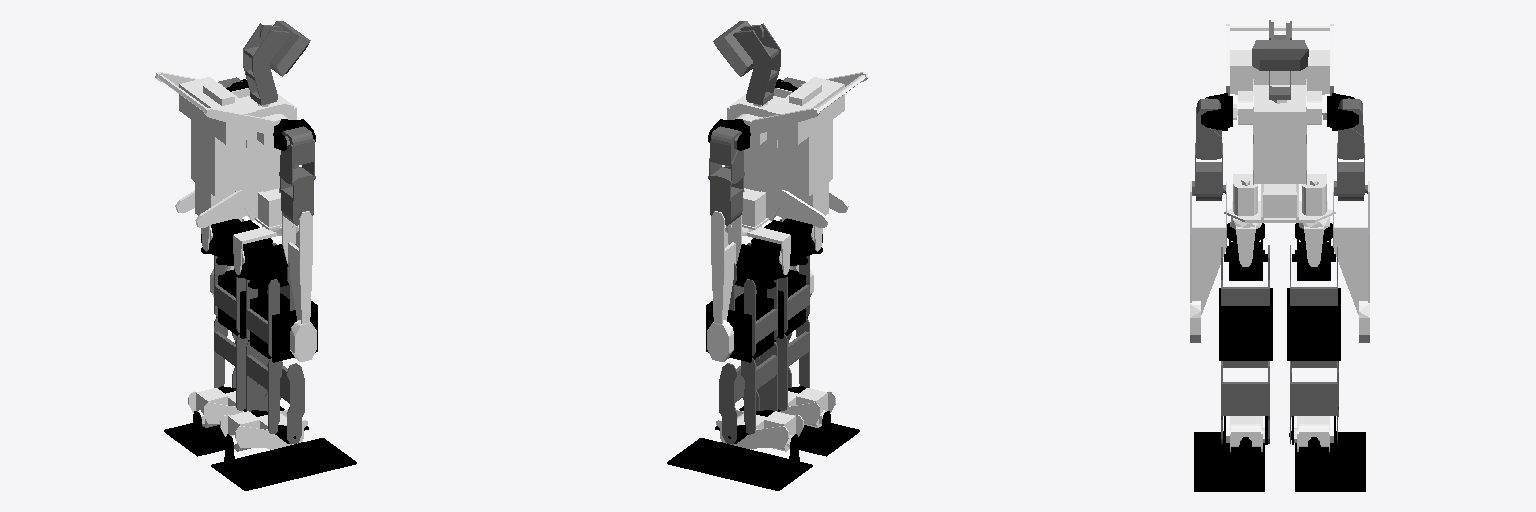
--- Facts derived from the render (not from the file) ---
3 views of the same robot in one strip: view 1: azimuth 30°, elevation 25°; view 2: azimuth 150°, elevation 25°; view 3: azimuth 270°, elevation 25° (orthographic).
Model gankenkun with 35 links and 34 joints (27 revolute, 7 fixed), rooted at base_link, posed every joint at zero.
Links seen in each view (by area): view 1: body_link, right_ankle_roll_link, head_yaw_link, right_lower_arm_link, right_upper_arm_link, right_knee_pitch_link, right_waist_roll_link, right_ankle_pitch_link, right_shin_pitch_mimic_link, left_shin_pitch_mimic_link, right_shin_pitch_link, left_ankle_roll_link (+7 smaller); view 2: body_link, left_ankle_roll_link, head_yaw_link, left_lower_arm_link, left_upper_arm_link, left_knee_pitch_link, left_shin_pitch_mimic_link, left_waist_roll_link, left_ankle_pitch_link, right_shin_pitch_mimic_link, left_shin_pitch_link, right_ankle_roll_link (+7 smaller); view 3: body_link, left_ankle_roll_link, right_ankle_roll_link, left_knee_pitch_link, right_knee_pitch_link, left_lower_arm_link, right_lower_arm_link, right_upper_arm_link, left_upper_arm_link, head_yaw_link, right_shin_pitch_link, left_shin_pitch_link (+10 smaller).
Link boxes in pixels (box(x1,y1,x2,y2)): body_link: box(155, 72, 296, 229); right_ankle_roll_link: box(211, 434, 356, 490); head_yaw_link: box(243, 21, 310, 105); right_lower_arm_link: box(282, 211, 316, 361); right_upper_arm_link: box(279, 126, 315, 225); right_knee_pitch_link: box(248, 293, 317, 362); right_waist_roll_link: box(233, 238, 288, 289); right_ankle_pitch_link: box(220, 410, 307, 451); right_shin_pitch_mimic_link: box(246, 341, 281, 433); left_shin_pitch_mimic_link: box(214, 318, 247, 410); right_shin_pitch_link: box(265, 357, 304, 444); left_ankle_roll_link: box(164, 406, 308, 456); body_link: box(727, 72, 868, 229); left_ankle_roll_link: box(667, 434, 812, 490); head_yaw_link: box(713, 21, 780, 105); left_lower_arm_link: box(707, 211, 741, 361); left_upper_arm_link: box(708, 126, 744, 225); left_knee_pitch_link: box(706, 293, 775, 362); left_shin_pitch_mimic_link: box(741, 342, 777, 434); left_waist_roll_link: box(735, 238, 790, 289); left_ankle_pitch_link: box(716, 410, 803, 451); right_shin_pitch_mimic_link: box(776, 318, 809, 410); left_shin_pitch_link: box(719, 356, 759, 444); right_ankle_roll_link: box(715, 406, 859, 456); body_link: box(1224, 24, 1335, 222); left_ankle_roll_link: box(1295, 432, 1365, 491); right_ankle_roll_link: box(1194, 432, 1264, 491); left_knee_pitch_link: box(1287, 288, 1340, 360); right_knee_pitch_link: box(1219, 288, 1272, 360); left_lower_arm_link: box(1333, 181, 1369, 342); right_lower_arm_link: box(1190, 181, 1226, 342); right_upper_arm_link: box(1192, 98, 1225, 200); left_upper_arm_link: box(1334, 98, 1367, 200); head_yaw_link: box(1252, 20, 1308, 99); right_shin_pitch_link: box(1221, 361, 1269, 443); left_shin_pitch_link: box(1290, 361, 1337, 443).
Size in the robot's own frame: 0.2145 by 0.2314 by 0.6326 metres.
Meshes: 18 distinct files referenced, 28 mesh visuals loaded (18 Collada DAE).

URDF robot description (gankenkun):
<?xml version="1.0" ?>
<robot name="gankenkun" xmlns:xacro="http://www.ros.org/wiki/xacro">
  <material name="black">
    <color rgba="0.0 0.0 0.0 1.0"/>
  </material>
  <material name="blue">
    <color rgba="0.2 0.2 1.0 1.0"/>
  </material>
  <material name="green">
    <color rgba="0.0 0.8 0.0 1.0"/>
  </material>
  <material name="grey">
    <color rgba="0.5 0.5 0.5 1.0"/>
  </material>
  <material name="orange">
    <color rgba="1.0 0.423529411765 0.0392156862745 1.0"/>
  </material>
  <material name="brown">
    <color rgba="1.0 0.811764705882 0.764705882353 1.0"/>
  </material>
  <material name="red">
    <color rgba="1.0 0.0 0.0 1.0"/>
  </material>
  <material name="white">
    <color rgba="1.0 1.0 1.0 1.0"/>
  </material>
  <!-- import empty link -->
  <link name="base_link">
  </link>
  <!-- uncomment this part to fixed the body in space (ignore gravity) -->
  <!--
    <link name="world"/>
    <joint name="world2base" type="fixed">
        <origin xyz="0 0 0" rpy="0 0 0" />
        <parent link="world"/>
        <child link="base_link"/>
    </joint>
    -->
  <!-- base joints -->
  <joint name="base_joint" type="fixed">
    <parent link="base_link"/>
    <child link="body_link"/>
    <origin rpy="0 0 0" xyz="0 0 0.4285"/>
  </joint>
  <!-- base body -->
  <link name="body_link">
    <inertial>
      <mass value="2.289633"/>
      <origin xyz="-0.029448 0 0.031411"/>
      <inertia ixx="0.009982335" ixy="0.0" ixz="0.0" iyy="0.007902445" iyz="0.0" izz="0.00631869"/>
    </inertial>
    <visual>
      <origin rpy="-1.57079632679 0 1.57079632679" xyz="0 0 0"/>
      <geometry>
        <mesh filename="meshes/body.dae"/>
      </geometry>
      <material name="white"/>
    </visual>
    <collision>
      <origin rpy="-1.57079632679 0 1.57079632679" xyz="0 0 0"/>
      <geometry>
        <box size="0.24 0.1 0.1" />
      </geometry>
    </collision>
  </link>
  <!-- head joints -->
  <joint name="head_yaw_joint" type="revolute">
    <parent link="body_link"/>
    <child link="head_yaw_link"/>
    <origin rpy="0 0 0" xyz="0 0 0.09475"/>
    <limit effort="4.6" lower="-2.35619449019" upper="2.35619449019" velocity="5.65"/>
    <dynamics damping="0.984" friction="0.088832"/>
    <axis xyz="0 0 1"/>
  </joint>
  <!-- head link -->
  <link name="head_yaw_link">
    <inertial>
      <mass value="0.10351"/>
      <origin xyz="0.017325 0 0.065059"/>
      <inertia ixx="0.000126538" ixy="0.0" ixz="0.0" iyy="0.000131085" iyz="0.0" izz="0.000071725 "/>
    </inertial>
    <visual>
      <origin rpy="-1.57079632679 1.57079632679 0" xyz="0 0 0"/>
      <geometry>
        <mesh filename="meshes/head.dae"/>
      </geometry>
      <material name="grey"/>
    </visual>
  </link>
  <!-- arm joints -->
  <joint name="left_shoulder_pitch_joint" type="revolute">
    <parent link="body_link"/>
    <child link="left_shoulder_link"/>
    <origin rpy="-1.57079632679 0 0" xyz="0.0 0.06 0.072"/>
    <limit effort="4.6" lower="-2.35619449019" upper="2.35619449019" velocity="5.65"/>
    <dynamics damping="0.984" friction="0.088832"/>
    <axis xyz="0 0 1"/>
  </joint>
  <joint name="left_shoulder_roll_joint" type="revolute">
    <parent link="left_shoulder_link"/>
    <child link="left_upper_arm_link"/>
    <origin rpy="0 1.57079632679 0" xyz="0 0 0.0315"/>
    <limit effort="4.6" lower="0" upper="3.14159265359" velocity="5.65"/>
    <dynamics damping="0.984" friction="0.088832"/>
    <axis xyz="0 0 1"/>
  </joint>
  <joint name="left_elbow_pitch_joint" type="revolute">
    <parent link="left_upper_arm_link"/>
    <child link="left_lower_arm_link"/>
    <origin rpy="0 -1.57079632679 0" xyz="0 0.109 0"/>
    <limit effort="4.6" lower="-2.35619449019" upper="0.0" velocity="5.65"/>
    <dynamics damping="0.984" friction="0.088832"/>
    <axis xyz="0 0 1"/>
  </joint>
  <!-- arm link -->
  <link name="left_shoulder_link">
    <inertial>
      <mass value="0.09038"/>
      <origin xyz="0 0 0.0075"/>
      <inertia ixx="0.000009025" ixy="0.0" ixz="0.0" iyy="0.000016881" iyz="0.0" izz="0.000011316"/>
    </inertial>
    <visual>
      <origin rpy="0 0 1.57079632679" xyz="0 0 0"/>
      <geometry>
        <mesh filename="meshes/shoulder.dae"/>
      </geometry>
      <material name="black"/>
    </visual>
  </link>
  <link name="left_upper_arm_link">
    <inertial>
      <mass value="0.185658"/>
      <origin xyz="0 0.0545 0"/>
      <inertia ixx="0.001462386" ixy="0.0" ixz="0.0" iyy="0.001573653" iyz="0.0" izz="0.000250070"/>
    </inertial>
    <visual>
      <origin rpy="0 1.57079632679 0" xyz="0 0 0"/>
      <geometry>
        <mesh filename="meshes/arm.dae"/>
      </geometry>
      <material name="grey"/>
    </visual>
  </link>
  <link name="left_lower_arm_link">
    <inertial>
      <mass value="0.059757"/>
      <origin xyz="0 0.132001 0"/>
      <inertia ixx="0.000397774" ixy="0.0" ixz="0.0" iyy="0.000391749" iyz="0.0" izz="0.000056957"/>
    </inertial>
    <visual>
      <origin rpy="0 0 1.57079632679" xyz="0 0 0"/>
      <geometry>
        <mesh filename="meshes/hand.dae"/>
      </geometry>
      <material name="white"/>
    </visual>
  </link>
  <!-- arm joints -->
  <joint name="right_shoulder_pitch_joint" type="revolute">
    <parent link="body_link"/>
    <child link="right_shoulder_link"/>
    <origin rpy="-1.57079632679 0 0" xyz="0.0 -0.06 0.072"/>
    <limit effort="4.6" lower="-2.35619449019" upper="2.35619449019" velocity="5.65"/>
    <dynamics damping="0.984" friction="0.088832"/>
    <axis xyz="0 0 1"/>
  </joint>
  <joint name="right_shoulder_roll_joint" type="revolute">
    <parent link="right_shoulder_link"/>
    <child link="right_upper_arm_link"/>
    <origin rpy="0 1.57079632679 0" xyz="0 0 -0.0315"/>
    <limit effort="4.6" lower="-3.14159265359" upper="0" velocity="5.65"/>
    <dynamics damping="0.984" friction="0.088832"/>
    <axis xyz="0 0 1"/>
  </joint>
  <joint name="right_elbow_pitch_joint" type="revolute">
    <parent link="right_upper_arm_link"/>
    <child link="right_lower_arm_link"/>
    <origin rpy="0 -1.57079632679 0" xyz="0 0.109 0"/>
    <limit effort="4.6" lower="-2.35619449019" upper="0.0" velocity="5.65"/>
    <dynamics damping="0.984" friction="0.088832"/>
    <axis xyz="0 0 1"/>
  </joint>
  <!-- arm link -->
  <link name="right_shoulder_link">
    <inertial>
      <mass value="0.09038"/>
      <origin xyz="0 0 -0.0075"/>
      <inertia ixx="0.000009025" ixy="0.0" ixz="0.0" iyy="0.000016881" iyz="0.0" izz="0.000011316"/>
    </inertial>
    <visual>
      <origin rpy="0 3.14159265359 1.57079632679" xyz="0 0 0"/>
      <geometry>
        <mesh filename="meshes/shoulder.dae"/>
      </geometry>
      <material name="black"/>
    </visual>
  </link>
  <link name="right_upper_arm_link">
    <inertial>
      <mass value="0.185658"/>
      <origin xyz="0 0.0545 0"/>
      <inertia ixx="0.001462386" ixy="0.0" ixz="0.0" iyy="0.001573653" iyz="0.0" izz="0.000250070"/>
    </inertial>
    <visual>
      <origin rpy="0 1.57079632679 0" xyz="0 0 0"/>
      <geometry>
        <mesh filename="meshes/arm.dae"/>
      </geometry>
      <material name="grey"/>
    </visual>
  </link>
  <link name="right_lower_arm_link">
    <inertial>
      <mass value="0.059757"/>
      <origin xyz="0 0.132001 0"/>
      <inertia ixx="0.000397774" ixy="0.0" ixz="0.0" iyy="0.000391749" iyz="0.0" izz="0.000056957"/>
    </inertial>
    <visual>
      <origin rpy="3.14159265359 0 1.57079632679" xyz="0 0 0"/>
      <geometry>
        <mesh filename="meshes/hand.dae"/>
      </geometry>
      <material name="white"/>
    </visual>
  </link>
  <!-- leg joints -->
  <joint name="left_waist_yaw_joint" type="revolute">
    <parent link="body_link"/>
    <child link="left_waist_yaw_link"/>
    <origin rpy="0 0 0" xyz="0.005 0.044 -0.0725"/>
    <limit effort="7.6" lower="-0.785398163397" upper="0.785398163397" velocity="4.81"/>
    <dynamics damping="1.74" friction="0.09888"/>
    <axis xyz="0 0 1"/>
  </joint>
  <joint name="left_waist_roll_joint" type="revolute">
    <parent link="left_waist_yaw_link"/>
    <child link="left_waist_roll_link"/>
    <origin rpy="0 1.57079632679 0" xyz="0.024975 0 -0.055"/>
    <limit effort="15.2" lower="-0.785398163397" upper="0.785398163397" velocity="2.40"/>
    <dynamics damping="3.48" friction="0.197"/>
    <axis xyz="0 0 1"/>
  </joint>
  <joint name="left_waist_roll_mimic_joint" type="fixed">
    <parent link="left_waist_roll_link"/>
    <child link="left_slider_crank_link"/>
    <origin rpy="0 0 0" xyz="-0.018 0 -0.091475"/>
    <mimic joint="left_waist_roll_joint" multiplier="-2" offset="0"/>
    <limit effort="7.6" lower="-1.57079632679" upper="1.57079632679" velocity="4.81"/>
    <dynamics damping="1.74" friction="0.09888"/>
    <axis xyz="0 0 1"/>
  </joint>
  <joint name="left_waist_pitch_joint" type="revolute">
    <parent link="left_waist_roll_link"/>
    <child link="left_waist_pitch_link"/>
    <origin rpy="-1.57079632679 0 0" xyz="0 0 -0.025"/>
    <limit effort="7.6" lower="-1.57079632679" upper="0.523598775598" velocity="4.81"/>
    <dynamics damping="1.74" friction="0.09888"/>
    <axis xyz="0 0 1"/>
  </joint>
  <joint name="left_waist_pitch_mimic_joint" type="revolute">
    <parent link="left_waist_roll_link"/>
    <child link="left_waist_pitch_mimic_link"/>
    <origin rpy="-1.57079632679 0 0" xyz="0.02 0 -0.057"/>
    <mimic joint="left_waist_pitch_joint" multiplier="1" offset="0"/>
    <limit effort="7.6" lower="-1.57079632679" upper="0.523598775598" velocity="4.81"/>
    <dynamics damping="1.74" friction="0.09888"/>
    <axis xyz="0 0 1"/>
  </joint>
  <joint name="left_knee_pitch_mimic_joint" type="revolute">
    <parent link="left_waist_pitch_link"/>
    <child link="left_knee_pitch_link"/>
    <origin rpy="0 0 0" xyz="0.1 0 0"/>
    <mimic joint="left_waist_pitch_joint" multiplier="-1" offset="0"/>
    <limit effort="7.6" lower="-0.523598775598" upper="1.57079632679" velocity="4.81"/>
    <dynamics damping="1.74" friction="0.09888"/>
    <axis xyz="0 0 1"/>
  </joint>
  <joint name="left_knee_pitch_joint" type="revolute">
    <parent link="left_knee_pitch_link"/>
    <child link="left_shin_pitch_link"/>
    <origin rpy="0 0 0" xyz="0.057 0 0"/>
    <limit effort="7.6" lower="-0.523598775598" upper="1.57079632679" velocity="4.81"/>
    <dynamics damping="1.74" friction="0.09888"/>
    <axis xyz="0 0 1"/>
  </joint>
  <joint name="left_shin_pitch_mimic_joint" type="revolute">
    <parent link="left_knee_pitch_link"/>
    <child link="left_shin_pitch_mimic_link"/>
    <origin rpy="0 0 0" xyz="0.037 0.032 0"/>
    <mimic joint="left_knee_pitch_joint" multiplier="1" offset="0"/>
    <limit effort="7.6" lower="-0.523598775598" upper="1.57079632679" velocity="4.81"/>
    <dynamics damping="1.74" friction="0.09888"/>
    <axis xyz="0 0 1"/>
  </joint>
  <joint name="left_ankle_pitch_mimic_joint" type="revolute">
    <parent link="left_shin_pitch_link"/>
    <child link="left_independent_pitch_link"/>
    <origin rpy="0 0 0" xyz="0.1 0 0"/>
    <mimic joint="left_knee_pitch_joint" multiplier="-1" offset="0"/>
    <limit effort="7.6" lower="-1.57079632679" upper="1.57079632679" velocity="4.81"/>
    <dynamics damping="1.74" friction="0.09888"/>
    <axis xyz="0 0 1"/>
  </joint>
  <joint name="left_ankle_pitch_joint" type="revolute">
    <parent link="left_independent_pitch_link"/>
    <child link="left_ankle_pitch_link"/>
    <origin rpy="0 0 0" xyz="0.0001 0 0"/>
    <limit effort="7.6" lower="-0.785398163397" upper="0.785398163397" velocity="5.91"/>
    <dynamics damping="1.74" friction="0.09888"/>
    <axis xyz="0 0 1"/>
  </joint>
  <joint name="left_ankle_roll_joint" type="revolute">
    <parent link="left_ankle_pitch_link"/>
    <child link="left_ankle_roll_link"/>
    <origin rpy="1.57079632679 0 0" xyz="0 0.0325 0"/>
    <limit effort="4.6" lower="-1.57079632679" upper="1.57079632679" velocity="5.65"/>
    <dynamics damping="0.984" friction="0.088832"/>
    <axis xyz="0 0 1"/>
  </joint>
  <joint name="left_foot_joint" type="fixed">
    <parent link="left_ankle_roll_link"/>
    <child link="left_foot_link"/>
    <origin rpy="0 -1.57079632679 0" xyz="0.044 0 0"/>
  </joint>
  <!-- leg links -->
  <link name="left_waist_yaw_link">
    <inertial>
      <mass value="0.105945"/>
      <origin xyz="-0.00658 0 -0.010416"/>
      <inertia ixx="0.000008114" ixy="0.0" ixz="0.0" iyy="0.000023034" iyz="0.0" izz="0.000019287"/>
    </inertial>
    <visual>
      <origin rpy="-1.57079632679 0 1.57079632679" xyz="0 0 0"/>
      <geometry>
        <mesh filename="meshes/waist_yaw.dae"/>
      </geometry>
      <material name="white"/>
    </visual>
  </link>
  <link name="left_waist_roll_link">
    <inertial>
      <mass value="0.227844"/>
      <origin xyz="0.002331 0 -0.04763"/>
      <inertia ixx="0.000055580" ixy="0.0" ixz="0.0" iyy="0.000061752" iyz="0.0" izz="0.000079989"/>
    </inertial>
    <visual>
      <origin rpy="-1.57079632679 -1.57079632679 0" xyz="0 0 0"/>
      <geometry>
        <mesh filename="meshes/waist_roll_left.dae"/>
      </geometry>
      <material name="black"/>
    </visual>
  </link>
  <link name="left_slider_crank_link">
    <inertial>
      <mass value="0.002638"/>
      <origin xyz="-0.010842 0 -0.001"/>
      <inertia ixx="0.000001236" ixy="0.0" ixz="0.0" iyy="0.000001154" iyz="0.0" izz="0.000000372"/>
    </inertial>
    <visual>
      <origin rpy="1.57079632679 0 -1.57079632679" xyz="0 0 0"/>
      <geometry>
        <mesh filename="meshes/slider_crank.dae"/>
      </geometry>
      <material name="white"/>
    </visual>
  </link>
  <link name="left_waist_pitch_link">
    <inertial>
      <mass value="0.030589"/>
      <origin xyz="0.057714 -0.007362 0"/>
      <inertia ixx="0.000082632" ixy="0.0" ixz="0.0" iyy="0.000049273" iyz="0.0" izz="0.000045494"/>
    </inertial>
    <visual>
      <origin rpy="0 0 -1.57079632679" xyz="0 0 0"/>
      <geometry>
        <mesh filename="meshes/waist_pitch.dae"/>
      </geometry>
      <material name="grey"/>
    </visual>
  </link>
  <link name="left_waist_pitch_mimic_link">
    <inertial>
      <mass value="0.026735"/>
      <origin xyz="0.059775 0.001384 0"/>
      <inertia ixx="0.000034484" ixy="0.0" ixz="0.0" iyy="0.000017178" iyz="0.0" izz="0.000018302"/>
    </inertial>
    <visual>
      <origin rpy="0 0 1.57079632679" xyz="0 0 0"/>
      <geometry>
        <mesh filename="meshes/waist_pitch_mimic.dae"/>
      </geometry>
      <material name="grey"/>
    </visual>
  </link>
  <link name="left_knee_pitch_link">
    <inertial>
      <mass value="0.161201"/>
      <origin xyz="0.037989 0.005 0"/>
      <inertia ixx="0.000164790" ixy="0.0" ixz="0.0" iyy="0.000151986" iyz="0.0" izz="0.000098349"/>
    </inertial>
    <visual>
      <origin rpy="0 3.14159265359 0" xyz="0 0 0"/>
      <geometry>
        <box size="0.07 0.07 0.07" />
      </geometry>
      <material name="black"/>
    </visual>
    <collision>
      <origin rpy="0 3.14159265359 0" xyz="0 0 0"/>
      <geometry>
        <box size="0.07 0.07 0.07" />
      </geometry>
    </collision>
<!--
    <visual>
      <origin rpy="0 3.14159265359 0" xyz="0 0 0"/>
      <geometry>
        <mesh filename="meshes/knee_pitch_left.dae"/>
      </geometry>
      <material name="black"/>
    </visual>
    <collision>
      <origin rpy="0 3.14159265359 0" xyz="0 0 0"/>
      <geometry>
        <mesh filename="meshes/knee_pitch_left.dae"/>
      </geometry>
    </collision>
-->
  </link>
  <link name="left_shin_pitch_link">
    <inertial>
      <mass value="0.091894"/>
      <origin xyz="0.048641 -0.006895 0"/>
      <inertia ixx="0.000032309" ixy="0.0" ixz="0.0" iyy="0.000015039" iyz="0.0" izz="0.000018339"/>
    </inertial>
    <visual>
      <origin rpy="0 0 -1.57079632679" xyz="0 0 0"/>
      <geometry>
        <mesh filename="meshes/shin_pitch.dae"/>
      </geometry>
      <material name="grey"/>
    </visual>
  </link>
  <link name="left_shin_pitch_mimic_link">
    <inertial>
      <mass value="0.025866"/>
      <origin xyz="0.039698 -0.001743 0"/>
      <inertia ixx="0.000032309" ixy="0.0" ixz="0.0" iyy="0.000015039" iyz="0.0" izz="0.000018339"/>
    </inertial>
    <visual>
      <origin rpy="3.14159265359 0 1.57079632679" xyz="0 0 0"/>
      <geometry>
        <mesh filename="meshes/shin_pitch_mimic.dae"/>
      </geometry>
      <material name="grey"/>
    </visual>
  </link>
  <link name="left_independent_pitch_link">
    <inertial>
      <mass value="0.01245"/>
      <origin xyz="-0.00763 0 0"/>
      <inertia ixx="0.000030599" ixy="0.0" ixz="0.0" iyy="0.000011414" iyz="0.0" izz="0.000040713"/>
    </inertial>
    <visual>
      <origin rpy="1.57079632679 0 3.14159265359" xyz="0 0 0"/>
      <geometry>
        <mesh filename="meshes/independent_pitch.dae"/>
      </geometry>
      <material name="black"/>
    </visual>
  </link>
  <link name="left_ankle_pitch_link">
    <inertial>
      <mass value="0.229672"/>
      <origin xyz="-0.005371 0.031878 0"/>
      <inertia ixx="0.000049799" ixy="0.0" ixz="0.0" iyy="0.000213199" iyz="0.0" izz="0.000223639"/>
    </inertial>
    <visual>
      <origin rpy="0 0 -1.57079632679" xyz="0 0 0"/>
      <geometry>
        <mesh filename="meshes/ankle_pitch_left.dae"/>
      </geometry>
      <material name="white"/>
    </visual>
  </link>
  <link name="left_ankle_roll_link">
    <inertial>
      <mass value="0.073825"/>
      <origin xyz="0.038060 0.017131 0.023457"/>
      <inertia ixx="0.000072411" ixy="0.0" ixz="0.0" iyy="0.000303046" iyz="0.0" izz="0.000358794"/>
    </inertial>
    <visual>
      <origin rpy="-1.57079632679 -1.57079632679 0" xyz="0 0 0"/>
      <geometry>
        <mesh filename="meshes/ankle_roll_left.dae"/>
      </geometry>
      <material name="black"/>
    </visual>
    <collision>
      <origin rpy="-1.57079632679 -1.57079632679 0" xyz="0.039 0.021 0.022"/>
      <geometry>
        <box size="0.1765 0.01 0.0925" />
      </geometry>
    </collision>
  </link>
  <link name="left_foot_link">
    <inertial>
      <mass value="0.0"/>
      <inertia ixx="0.0" ixy="0.0" ixz="0.0" iyy="0.0" iyz="0.0" izz="0.0"/>
    </inertial>
  </link>
  <!-- leg joints -->
  <joint name="right_waist_yaw_joint" type="revolute">
    <parent link="body_link"/>
    <child link="right_waist_yaw_link"/>
    <origin rpy="0 0 0" xyz="0.005 -0.044 -0.0725"/>
    <limit effort="7.6" lower="-0.785398163397" upper="0.785398163397" velocity="5.91"/>
    <dynamics damping="1.74" friction="0.09888"/>
    <axis xyz="0 0 1"/>
  </joint>
  <joint name="right_waist_roll_joint" type="revolute">
    <parent link="right_waist_yaw_link"/>
    <child link="right_waist_roll_link"/>
    <origin rpy="0 1.57079632679 0" xyz="0.024975 0 -0.055"/>
    <limit effort="15.2" lower="-0.785398163397" upper="0.785398163397" velocity="2.40"/>
    <dynamics damping="3.48" friction="0.197"/>
    <axis xyz="0 0 1"/>
  </joint>
  <joint name="right_waist_roll_mimic_joint" type="fixed">
    <parent link="right_waist_roll_link"/>
    <child link="right_slider_crank_link"/>
    <origin rpy="0 0 0" xyz="-0.018 0 -0.091475"/>
    <mimic joint="right_waist_roll_joint" multiplier="-2" offset="0"/>
    <limit effort="7.6" lower="-1.57079632679" upper="1.57079632679" velocity="4.81"/>
    <dynamics damping="1.74" friction="0.09888"/>
    <axis xyz="0 0 1"/>
  </joint>
  <joint name="right_waist_pitch_joint" type="revolute">
    <parent link="right_waist_roll_link"/>
    <child link="right_waist_pitch_link"/>
    <origin rpy="-1.57079632679 0 0" xyz="0 0 -0.025"/>
    <limit effort="7.6" lower="-1.57079632679" upper="0.523598775598" velocity="4.81"/>
    <dynamics damping="1.74" friction="0.09888"/>
    <axis xyz="0 0 1"/>
  </joint>
  <joint name="right_waist_pitch_mimic_joint" type="revolute">
    <parent link="right_waist_roll_link"/>
    <child link="right_waist_pitch_mimic_link"/>
    <origin rpy="-1.57079632679 0 0" xyz="0.02 0 -0.057"/>
    <mimic joint="right_waist_pitch_joint" multiplier="1" offset="0"/>
    <limit effort="7.6" lower="-1.57079632679" upper="0.523598775598" velocity="4.81"/>
    <dynamics damping="1.74" friction="0.09888"/>
    <axis xyz="0 0 1"/>
  </joint>
  <joint name="right_knee_pitch_mimic_joint" type="revolute">
    <parent link="right_waist_pitch_link"/>
    <child link="right_knee_pitch_link"/>
    <origin rpy="0 0 0" xyz="0.1 0 0"/>
    <mimic joint="right_waist_pitch_joint" multiplier="-1" offset="0"/>
    <limit effort="7.6" lower="-0.523598775598" upper="1.57079632679" velocity="4.81"/>
    <dynamics damping="1.74" friction="0.09888"/>
    <axis xyz="0 0 1"/>
  </joint>
  <joint name="right_knee_pitch_joint" type="revolute">
    <parent link="right_knee_pitch_link"/>
    <child link="right_shin_pitch_link"/>
    <origin rpy="0 0 0" xyz="0.057 0 0"/>
    <limit effort="7.6" lower="-0.523598775598" upper="1.57079632679" velocity="4.81"/>
    <dynamics damping="1.74" friction="0.09888"/>
    <axis xyz="0 0 1"/>
  </joint>
  <joint name="right_shin_pitch_mimic_joint" type="revolute">
    <parent link="right_knee_pitch_link"/>
    <child link="right_shin_pitch_mimic_link"/>
    <origin rpy="0 0 0" xyz="0.037 0.032 0"/>
    <mimic joint="right_knee_pitch_joint" multiplier="1" offset="0"/>
    <limit effort="7.6" lower="-0.523598775598" upper="1.57079632679" velocity="4.81"/>
    <dynamics damping="1.74" friction="0.09888"/>
    <axis xyz="0 0 1"/>
  </joint>
  <joint name="right_ankle_pitch_mimic_joint" type="revolute">
    <parent link="right_shin_pitch_link"/>
    <child link="right_independent_pitch_link"/>
    <origin rpy="0 0 0" xyz="0.1 0 0"/>
    <mimic joint="right_knee_pitch_joint" multiplier="-1" offset="0"/>
    <limit effort="7.6" lower="-1.57079632679" upper="1.57079632679" velocity="4.81"/>
    <dynamics damping="1.74" friction="0.09888"/>
    <axis xyz="0 0 1"/>
  </joint>
  <joint name="right_ankle_pitch_joint" type="revolute">
    <parent link="right_independent_pitch_link"/>
    <child link="right_ankle_pitch_link"/>
    <origin rpy="0 0 0" xyz="0.0001 0 0"/>
    <limit effort="7.6" lower="-0.785398163397" upper="0.785398163397" velocity="4.81"/>
    <dynamics damping="1.74" friction="0.09888"/>
    <axis xyz="0 0 1"/>
  </joint>
  <joint name="right_ankle_roll_joint" type="revolute">
    <parent link="right_ankle_pitch_link"/>
    <child link="right_ankle_roll_link"/>
    <origin rpy="1.57079632679 0 0" xyz="0 0.0325 0"/>
    <limit effort="4.6" lower="-1.57079632679" upper="1.57079632679" velocity="5.65"/>
    <dynamics damping="0.984" friction="0.088832"/>
    <axis xyz="0 0 1"/>
  </joint>
  <joint name="right_foot_joint" type="fixed">
    <parent link="right_ankle_roll_link"/>
    <child link="right_foot_link"/>
    <origin rpy="0 -1.57079632679 0" xyz="0.044 0 0"/>
  </joint>
  <!-- leg links -->
  <link name="right_waist_yaw_link">
    <inertial>
      <mass value="0.105945"/>
      <origin xyz="-0.00658 0 -0.010416"/>
      <inertia ixx="0.000008114" ixy="0.0" ixz="0.0" iyy="0.000023034" iyz="0.0" izz="0.000019287"/>
    </inertial>
    <visual>
      <origin rpy="-1.57079632679 0 1.57079632679" xyz="0 0 0"/>
      <geometry>
        <mesh filename="meshes/waist_yaw.dae"/>
      </geometry>
      <material name="white"/>
    </visual>
  </link>
  <link name="right_waist_roll_link">
    <inertial>
      <mass value="0.227844"/>
      <origin xyz="0.002331 0 -0.04763"/>
      <inertia ixx="0.000055580" ixy="0.0" ixz="0.0" iyy="0.000061752" iyz="0.0" izz="0.000079989"/>
    </inertial>
    <visual>
      <origin rpy="-1.57079632679 -1.57079632679 0" xyz="0 0 0"/>
      <geometry>
        <mesh filename="meshes/waist_roll_right.dae"/>
      </geometry>
      <material name="black"/>
    </visual>
  </link>
  <link name="right_slider_crank_link">
    <inertial>
      <mass value="0.002638"/>
      <origin xyz="-0.010842 0 -0.001"/>
      <inertia ixx="0.000001236" ixy="0.0" ixz="0.0" iyy="0.000001154" iyz="0.0" izz="0.000000372"/>
    </inertial>
    <visual>
      <origin rpy="1.57079632679 0 -1.57079632679" xyz="0 0 0"/>
      <geometry>
        <mesh filename="meshes/slider_crank.dae"/>
      </geometry>
      <material name="white"/>
    </visual>
  </link>
  <link name="right_waist_pitch_link">
    <inertial>
      <mass value="0.030589"/>
      <origin xyz="0.057714 -0.007362 0"/>
      <inertia ixx="0.000082632" ixy="0.0" ixz="0.0" iyy="0.000049273" iyz="0.0" izz="0.000045494"/>
    </inertial>
    <visual>
      <origin rpy="0 0 -1.57079632679" xyz="0 0 0"/>
      <geometry>
        <mesh filename="meshes/waist_pitch.dae"/>
      </geometry>
      <material name="grey"/>
    </visual>
  </link>
  <link name="right_waist_pitch_mimic_link">
    <inertial>
      <mass value="0.026735"/>
      <origin xyz="0.059775 0.001384 0"/>
      <inertia ixx="0.000034484" ixy="0.0" ixz="0.0" iyy="0.000017178" iyz="0.0" izz="0.000018302"/>
    </inertial>
    <visual>
      <origin rpy="0 0 1.57079632679" xyz="0 0 0"/>
      <geometry>
        <mesh filename="meshes/waist_pitch_mimic.dae"/>
      </geometry>
      <material name="grey"/>
    </visual>
  </link>
  <link name="right_knee_pitch_link">
    <inertial>
      <mass value="0.161201"/>
      <origin xyz="0.037989 0.005 0"/>
      <inertia ixx="0.000164790" ixy="0.0" ixz="0.0" iyy="0.000151986" iyz="0.0" izz="0.000098349"/>
    </inertial>
    <visual>
      <origin rpy="3.14159265359 3.14159265359 0" xyz="0 0 0"/>
      <geometry>
        <box size="0.07 0.07 0.07" />
      </geometry>
      <material name="black"/>
    </visual>
    <collision>
      <origin rpy="3.14159265359 3.14159265359 0" xyz="0 0 0"/>
      <geometry>
        <box size="0.07 0.07 0.07" />
      </geometry>
    </collision>
<!--
    <visual>
      <origin rpy="3.14159265359 3.14159265359 0" xyz="0 0 0"/>
      <geometry>
        <mesh filename="meshes/knee_pitch_right.dae"/>
      </geometry>
      <material name="black"/>
    </visual>
    <collision>
      <origin rpy="3.14159265359 3.14159265359 0" xyz="0 0 0"/>
      <geometry>
        <mesh filename="meshes/knee_pitch_right.dae"/>
      </geometry>
    </collision>
-->
  </link>
  <link name="right_shin_pitch_link">
    <inertial>
      <mass value="0.091894"/>
      <origin xyz="0.048641 -0.006895 0"/>
      <inertia ixx="0.0" ixy="0.0" ixz="0.0" iyy="0.0" iyz="0.0" izz="0.0"/>
    </inertial>
    <visual>
      <origin rpy="0 0 -1.57079632679" xyz="0 0 0"/>
      <geometry>
        <mesh filename="meshes/shin_pitch.dae"/>
      </geometry>
      <material name="grey"/>
    </visual>
  </link>
  <link name="right_shin_pitch_mimic_link">
    <inertial>
      <mass value="0.025866"/>
      <origin xyz="0.039698 -0.001743 0"/>
      <inertia ixx="0.000032309" ixy="0.0" ixz="0.0" iyy="0.000015039" iyz="0.0" izz="0.000018339"/>
    </inertial>
    <visual>
      <origin rpy="3.14159265359 0 1.57079632679" xyz="0 0 0"/>
      <geometry>
        <mesh filename="meshes/shin_pitch_mimic.dae"/>
      </geometry>
      <material name="grey"/>
    </visual>
  </link>
  <link name="right_independent_pitch_link">
    <inertial>
      <mass value="0.01245"/>
      <origin xyz="-0.00763 0 0"/>
      <inertia ixx="0.000030599" ixy="0.0" ixz="0.0" iyy="0.000011414" iyz="0.0" izz="0.000040713"/>
    </inertial>
    <visual>
      <origin rpy="1.57079632679 0 3.14159265359" xyz="0 0 0"/>
      <geometry>
        <mesh filename="meshes/independent_pitch.dae"/>
      </geometry>
      <material name="black"/>
    </visual>
  </link>
  <link name="right_ankle_pitch_link">
    <inertial>
      <mass value="0.229672"/>
      <origin xyz="-0.005371 0.031878 0"/>
      <inertia ixx="0.000049799" ixy="0.0" ixz="0.0" iyy="0.000213199" iyz="0.0" izz="0.000223639"/>
    </inertial>
    <visual>
      <origin rpy="0 0 -1.57079632679" xyz="0 0 0"/>
      <geometry>
        <mesh filename="meshes/ankle_pitch_right.dae"/>
      </geometry>
      <material name="white"/>
    </visual>
  </link>
  <link name="right_ankle_roll_link">
    <inertial>
      <mass value="0.073825"/>
      <origin xyz="0.038060 -0.017131 0.023457"/>
      <inertia ixx="0.000072411" ixy="0.0" ixz="0.0" iyy="0.000303046" iyz="0.0" izz="0.000358794"/>
    </inertial>
    <visual>
      <origin rpy="-1.57079632679 -1.57079632679 0" xyz="0 0 0"/>
      <geometry>
        <mesh filename="meshes/ankle_roll_right.dae"/>
      </geometry>
      <material name="black"/>
    </visual>
    <collision>
      <origin rpy="-1.57079632679 -1.57079632679 0" xyz="0.039  -0.021 0.022"/>
      <geometry>
        <box size="0.1765 0.01 0.0925" />
      </geometry>
    </collision>
  </link>
  <link name="right_foot_link">
    <inertial>
      <mass value="0.0"/>
      <inertia ixx="0.0" ixy="0.0" ixz="0.0" iyy="0.0" iyz="0.0" izz="0.0"/>
    </inertial>
  </link>
  <!-- camera joints -->
  <joint name="camera_joint" type="fixed">
    <parent link="head_yaw_link"/>
    <child link="camera_link"/>
    <origin rpy="0.785398163397 0 -1.5707963268" xyz="0.036495 0 0.063504"/>
  </joint>
  <!-- camera link -->
  <link name="camera_link">
    <inertial>
      <mass value="0.0"/>
      <inertia ixx="0.0" ixy="0.0" ixz="0.0" iyy="0.0" iyz="0.0" izz="0.0"/>
    </inertial>
  </link>
  <!-- imu joint -->
  <joint name="imu_joint" type="fixed">
    <parent link="body_link"/>
    <child link="imu_link"/>
    <origin rpy="0 0 0" xyz="-0.005 0.01682 0.003"/>
  </joint>
  <!-- imu link -->
  <link name="imu_link">
    <inertial>
      <mass value="0.0"/>
      <inertia ixx="0.0" ixy="0.0" ixz="0.0" iyy="0.0" iyz="0.0" izz="0.0"/>
    </inertial>
  </link>
</robot>
